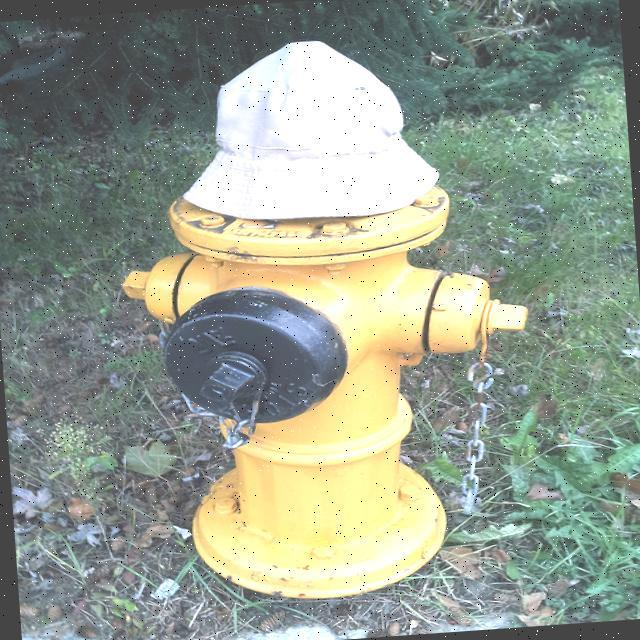fire_hydrant: (98, 23, 543, 614)
